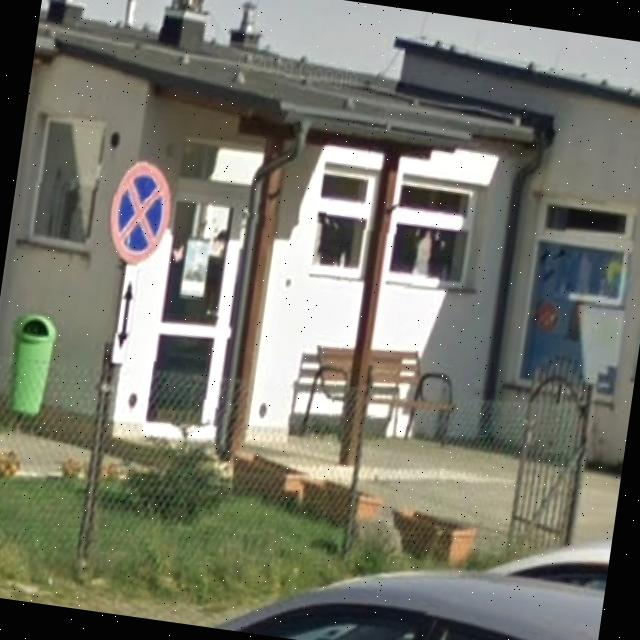Zakaz zatrzymywania sie: (102, 158, 178, 268)
